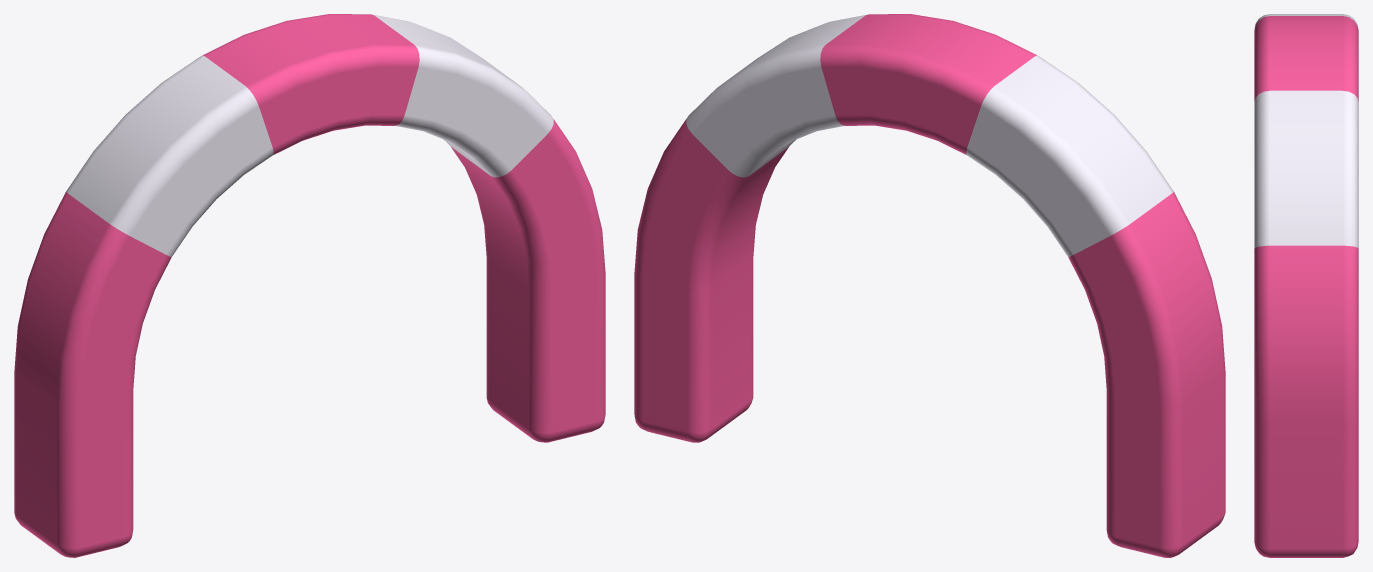
Rendered from arch_4.glb.
3 renders of one model, left to right at view 1: azimuth 30°, elevation 25°; view 2: azimuth 150°, elevation 25°; view 3: azimuth 270°, elevation 25°, orthographic. The views are drawn at different scales.
Parts seen in each view (by area): view 1: arch_4; view 2: arch_4; view 3: arch_4.
Boxes of the visible parts, bbox=[...] form: arch_4: bbox=[14, 14, 605, 557]; arch_4: bbox=[634, 14, 1225, 557]; arch_4: bbox=[1254, 14, 1358, 557].
Bounding box in the file's own units: 5.5 × 4.25 × 1.
1 material, 1 textured.
